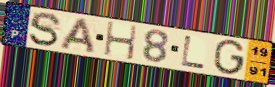8: (142, 29, 171, 65)
A: (58, 17, 97, 55)
G: (211, 38, 247, 76)
H: (103, 21, 139, 62)
L: (180, 34, 208, 71)
S: (28, 11, 64, 48)
